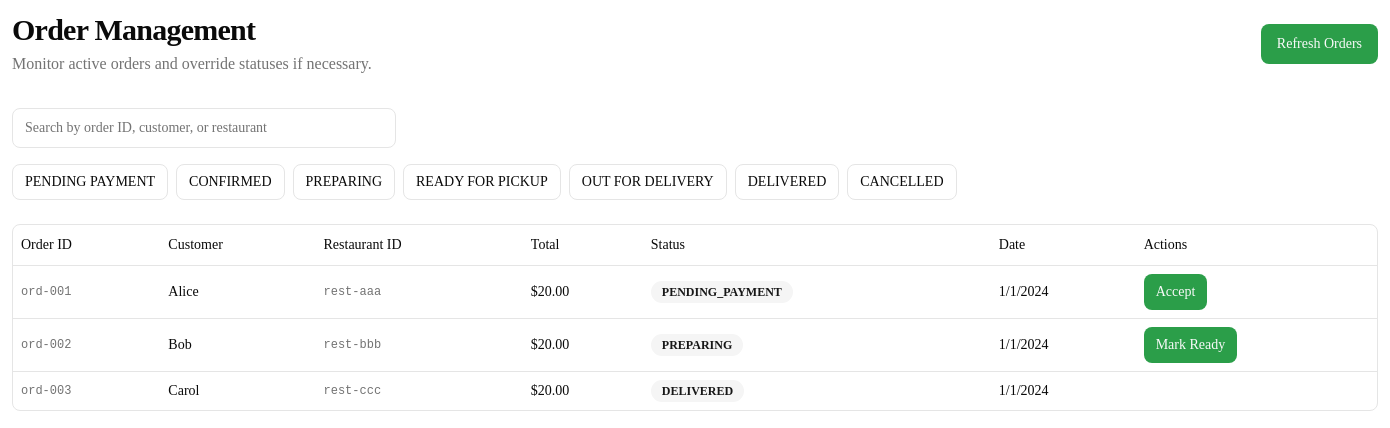
Test: Orders page (Req 16.1, 16.2, 16.5, 16.6, 16.7) › filters the list by the search box, case-insensitively (Req 16.4)
Step 1. Type "ALICE" into the search field named "Search orders" → point(204, 128), box [12,108,396,148]
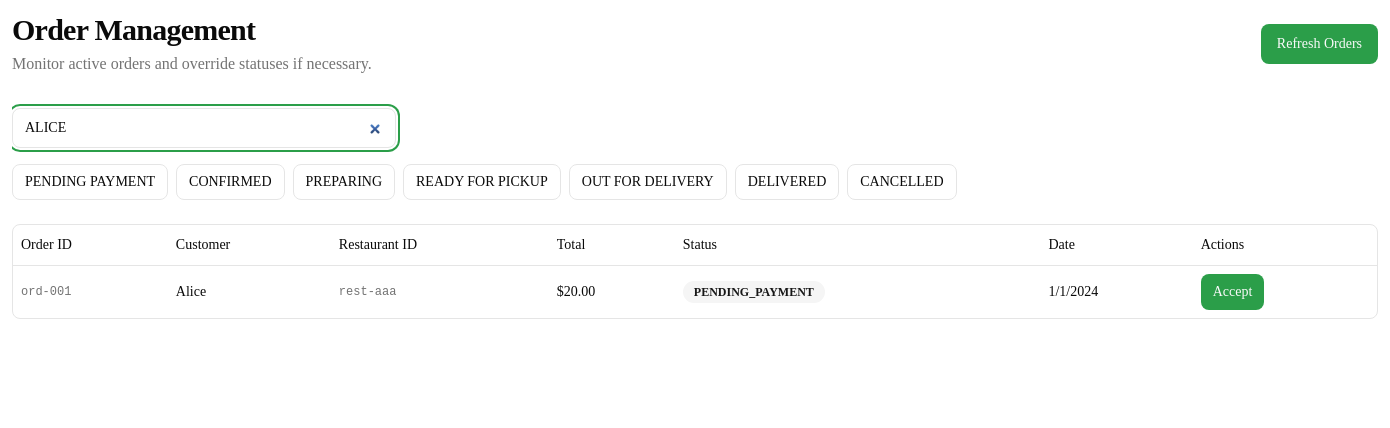
Check: the text "Alice" is shown, box [168,265,331,318]
Check: the text "Bob" is gone
Check: the text "Carol" is gone
// Searching by restaurant id narrows to a different order.
Step 2. Replace the text in the search field named "Search orders" with "rest-bbb" → point(204, 128), box [12,108,396,148]
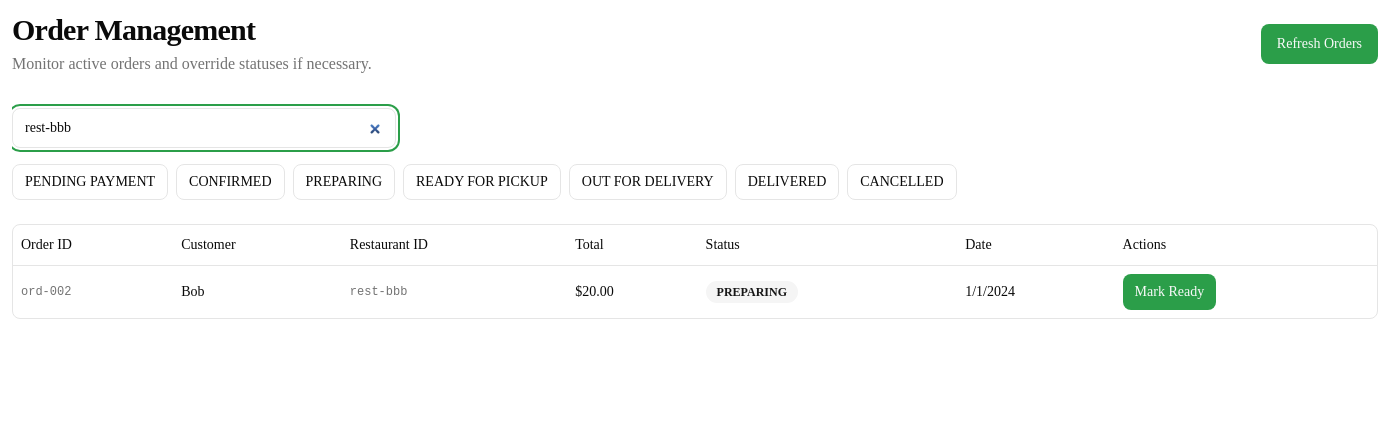
Check: the text "Bob" is shown, box [173,265,342,318]
Check: the text "Alice" is gone
